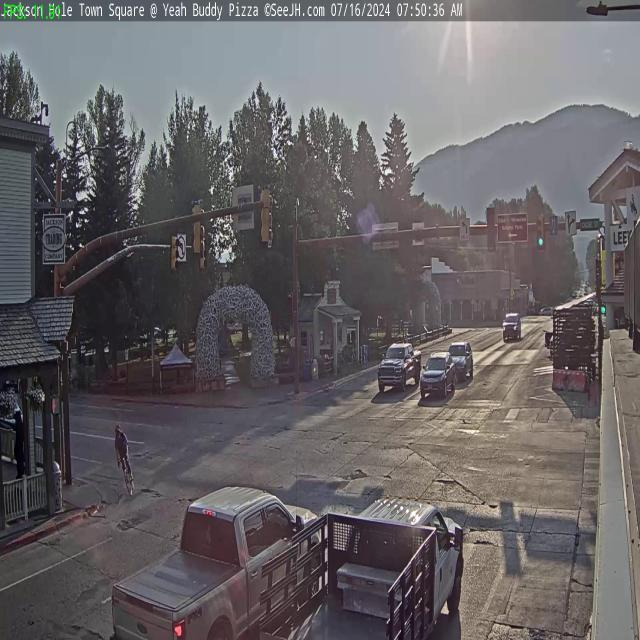bike: (120, 455, 134, 497)
person: (115, 424, 132, 494)
pickup: (110, 482, 333, 640), (378, 341, 420, 392)
suv: (420, 349, 456, 398), (448, 339, 472, 379), (502, 312, 522, 339)
traffic light: (259, 185, 272, 244), (190, 199, 203, 256), (486, 208, 496, 255), (171, 234, 178, 271), (537, 214, 544, 248)
